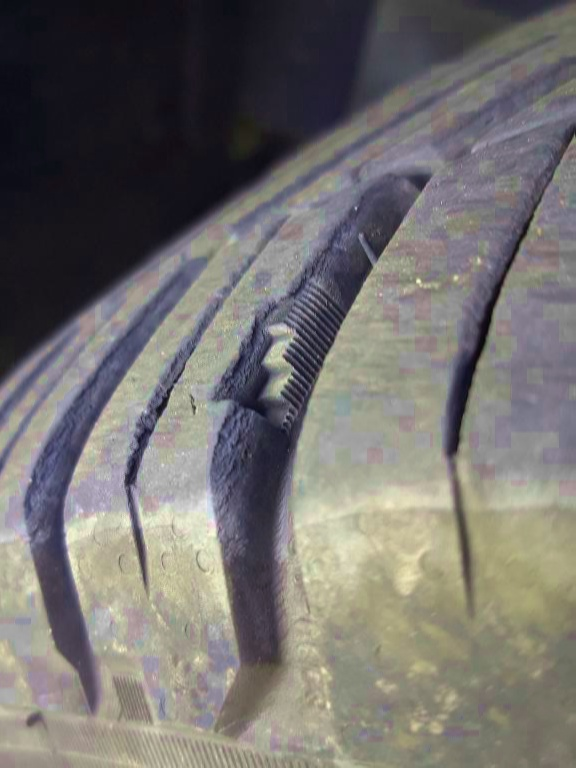temoin:80: (203, 271, 354, 444)
